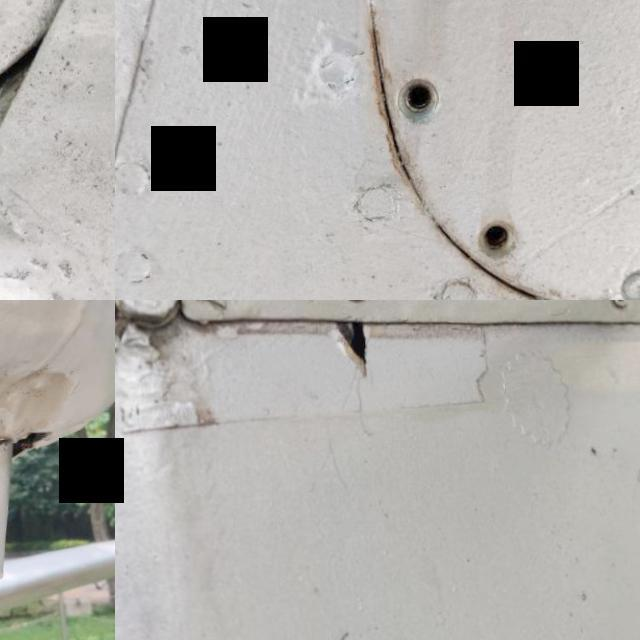Crack: (302, 301, 398, 408), (0, 150, 18, 221)
Dent: (0, 343, 87, 478)
Missing_Fastener: (372, 66, 459, 152), (458, 203, 530, 285)
